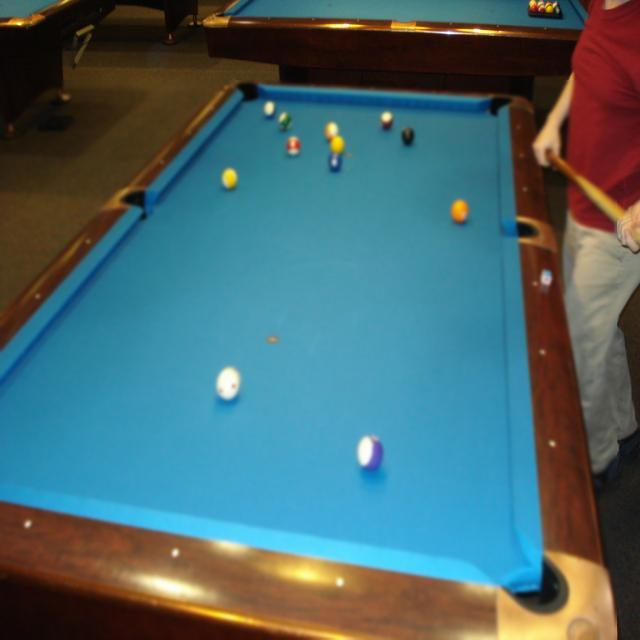Ball: (356, 434, 385, 474), (217, 366, 240, 402), (453, 199, 469, 223), (380, 109, 395, 131), (263, 102, 278, 122), (325, 122, 340, 142), (223, 168, 236, 190), (280, 110, 293, 132), (287, 137, 302, 156), (403, 128, 417, 147), (330, 137, 344, 155), (330, 153, 343, 172)
Billiard table: (0, 80, 617, 640)
